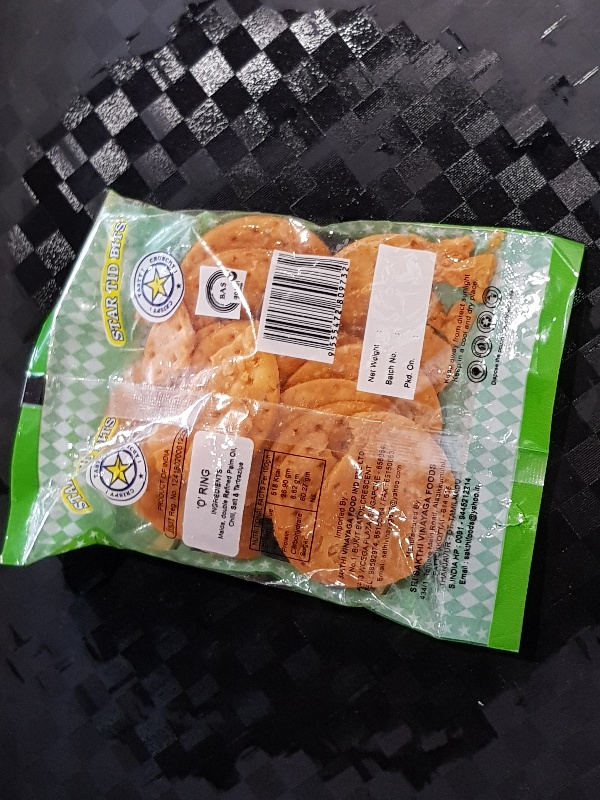Star Tidbits 'O' Ring: (2, 189, 584, 654)
